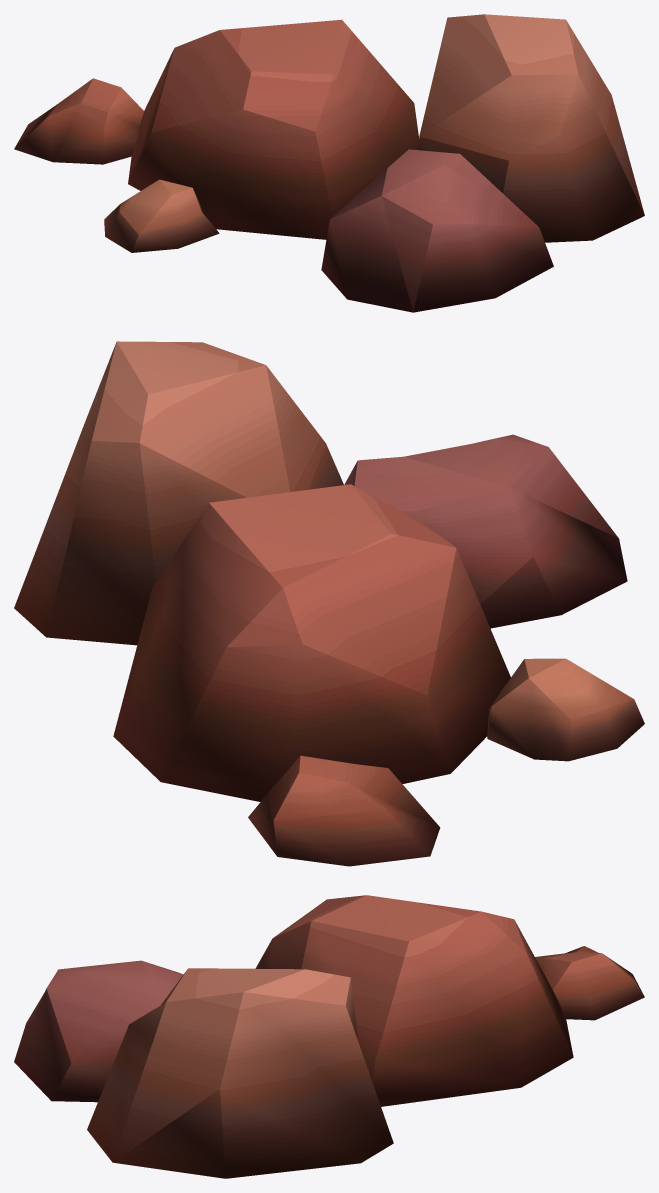
Rendered from rocks1.glb.
The picture shows the model from 3 angles, top to bottom: view 1: azimuth 30°, elevation 25°; view 2: azimuth 150°, elevation 25°; view 3: azimuth 270°, elevation 25°; orthographic projection. The views are drawn at different scales.
Parts seen in each view (by area): view 1: rocks1; view 2: rocks1; view 3: rocks1.
Part boxes in pixels (x1,y1,x2,y2): rocks1: (14,14,644,312); rocks1: (14,341,644,866); rocks1: (14,895,644,1178).
Size of the model in its own units: 5.21 by 1.68 by 5.93.
Materials: 1 (1 with a texture image).
